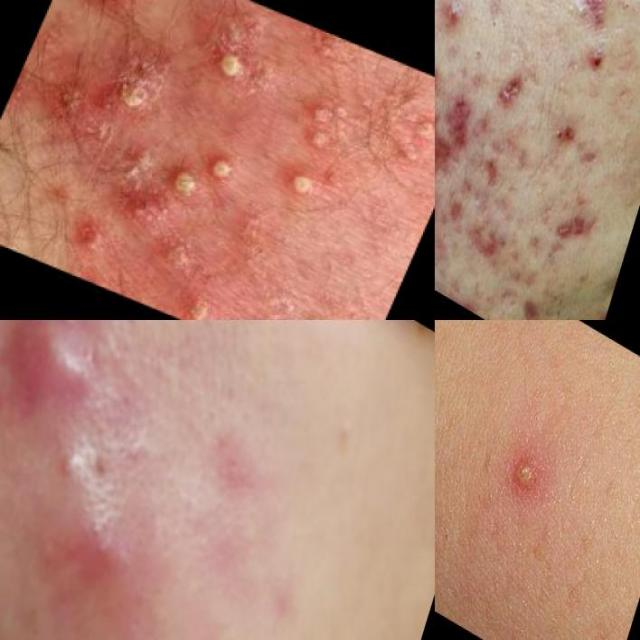8: (45, 200, 123, 266)
9: (487, 418, 574, 542), (15, 419, 100, 503)
blackheads: (18, 476, 158, 622), (83, 24, 190, 134), (461, 203, 513, 274), (465, 132, 515, 204), (441, 84, 484, 156), (491, 53, 529, 125), (557, 198, 600, 260), (554, 0, 617, 40), (570, 125, 608, 179), (435, 108, 453, 202), (435, 44, 448, 119), (511, 295, 548, 320)
dark spot: (473, 0, 513, 48), (454, 38, 490, 86), (605, 0, 640, 38), (554, 285, 590, 320)
pustules: (0, 320, 127, 455)
whiteheads: (270, 76, 362, 162), (190, 29, 274, 103), (266, 147, 342, 212), (381, 98, 434, 174), (153, 154, 213, 209), (196, 141, 249, 192), (177, 287, 221, 320)
